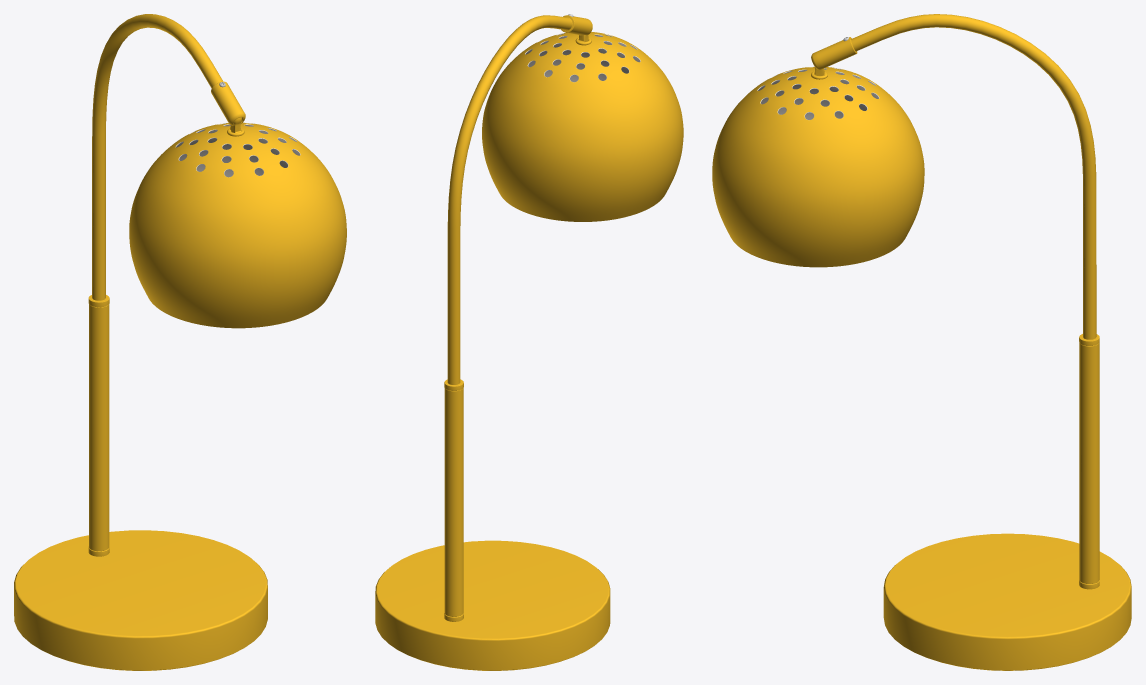
File: jak_table_lamp_chartreuse.glb
The picture shows the model from 3 angles, left to right: view 1: azimuth 30°, elevation 25°; view 2: azimuth 150°, elevation 25°; view 3: azimuth 270°, elevation 25°; orthographic projection. The views are drawn at different scales.
Visible parts, largest first — view 1: Jak_Table_Lamp_METAL_0, Jak_Table_Lamp_LAMP_SHADE_0; view 2: Jak_Table_Lamp_METAL_0, Jak_Table_Lamp_LAMP_SHADE_0; view 3: Jak_Table_Lamp_METAL_0, Jak_Table_Lamp_LAMP_SHADE_0.
Boxes of the visible parts, box(x1,y1,x2,y2) form: Jak_Table_Lamp_METAL_0: box(14, 14, 346, 670); Jak_Table_Lamp_LAMP_SHADE_0: box(175, 122, 300, 177); Jak_Table_Lamp_METAL_0: box(375, 15, 683, 670); Jak_Table_Lamp_LAMP_SHADE_0: box(525, 33, 640, 82); Jak_Table_Lamp_METAL_0: box(712, 14, 1131, 670); Jak_Table_Lamp_LAMP_SHADE_0: box(757, 66, 879, 119).
Size of what is drawn, in the model's own units: 18 by 48.48 by 30.45.
Materials: 3 (1 with a texture image).
